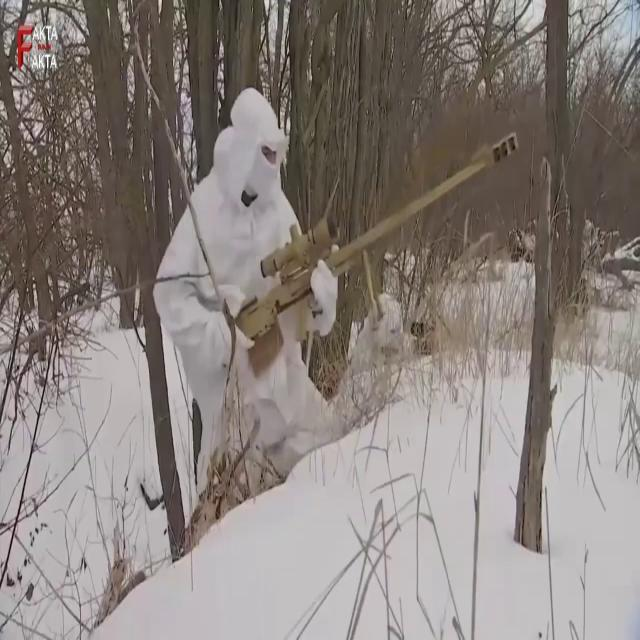Human: (150, 87, 516, 501)
